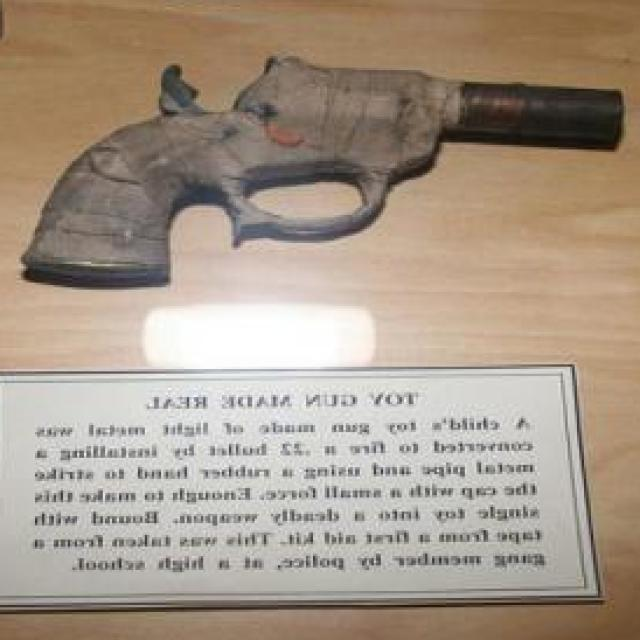pistol: (18, 49, 636, 290)
